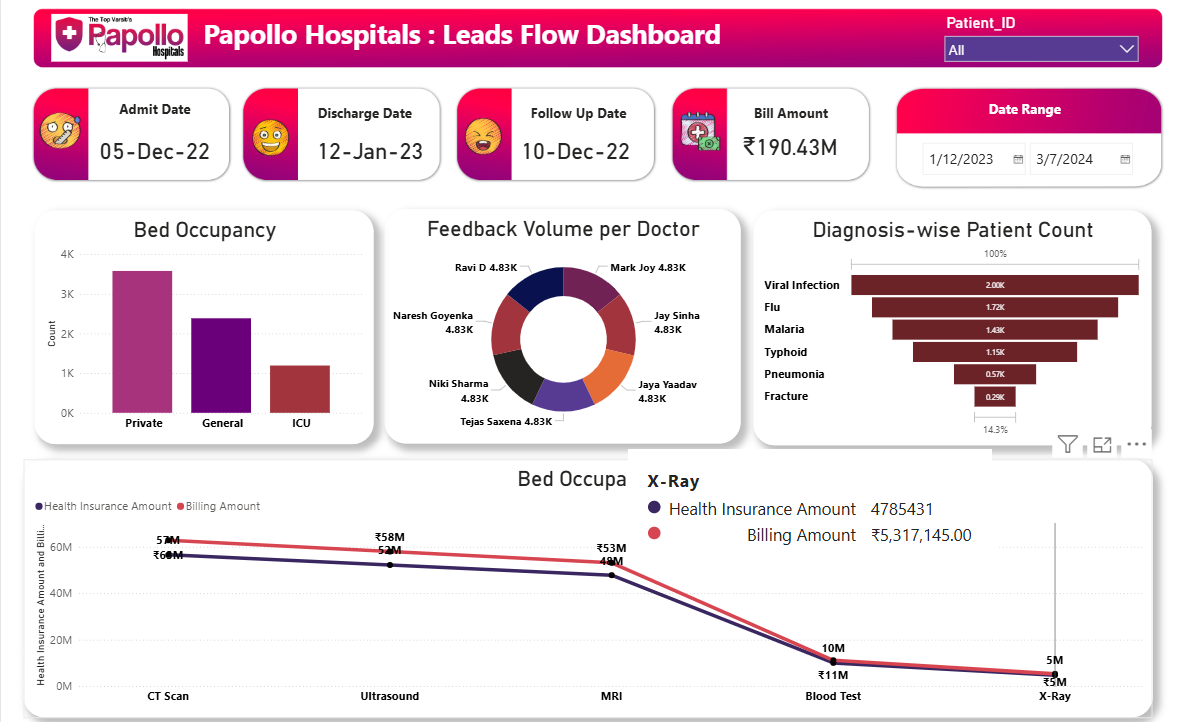

This screenshot's page, from the dashboard's own definition file:
{"tool":"powerbi","page":{"name":"Page 2","canvas":[1680,1050],"ordinal":0},"visuals":[{"type":"textbox","box":[280,27.1,755.7,74.3],"z":0},{"type":"image","box":[2636.7,100,623.3,150],"z":1000},{"type":"slicer","fields":{"Values":["Sheet1.Patient_ID"]},"box":[2400,373.3,793.3,420],"z":2000},{"type":"card","fields":{"Values":["Min(Sheet1.Admit_Date)"]},"box":[437.6,198.8,162.9,42.8],"z":3000},{"type":"card","fields":{"Values":["Min(Sheet1.Discharge_Date)"]},"box":[129.8,198.8,172.6,42.8],"z":4000},{"type":"card","fields":{"Values":["Min(Sheet1.Followup Date)"]},"box":[724.3,198.6,167.1,42.9],"z":5000},{"type":"textbox","box":[152.9,145.7,127.1,57.1],"z":6000},{"type":"textbox","box":[437.1,151.4,151.4,37.1],"z":7000},{"type":"textbox","box":[732.9,151.4,158.6,37.1],"z":8000},{"type":"textbox","box":[1035.7,151.4,151.4,37.1],"z":9000},{"type":"card","fields":{"Values":["Sum(Sheet1.Billing Amount)"]},"box":[1031.4,194.3,158.6,42.9],"z":10000},{"type":"image","box":[50,157.1,68.6,74.3],"z":11000},{"type":"image","box":[348.6,172.9,62.9,62.9],"z":12000},{"type":"image","box":[640,171.4,77.1,62.9],"z":13000},{"type":"image","box":[951.4,158.6,65.7,71.4],"z":14000},{"type":"columnChart","title":"Bed Occupancy","fields":{"Category":["Sheet1.Bed_Occupancy"],"Y":["CountNonNull(Sheet1.Bed_Occupancy)"]},"box":[47.1,305.7,477.1,328.6],"z":15000},{"type":"donutChart","title":"Feedback Volume per Doctor","fields":{"Category":["Sheet1.Doctor"],"Y":["Sum(Sheet1.Feedback)"]},"box":[540.2,305.2,501,329.5],"z":16000},{"type":"funnel","title":"Diagnosis-wise Patient Count","fields":{"Category":["Sheet1.Diagnosis"],"Y":["CountNonNull(Sheet1.Diagnosis)"]},"box":[1060,305.7,560,330],"z":17000},{"type":"image","box":[30,24.3,274.3,77.1],"z":18000},{"type":"lineChart","title":"Bed Occupancy","fields":{"Y":["Sum(Sheet1.Health Insurance Amount)","Sum(Sheet1.Billing Amount)"],"Category":["Sheet1.Test"]},"box":[31.1,656.3,1589.5,363.3],"z":19000},{"type":"slicer","fields":{"Values":["Sheet1.Admit_Date"]},"box":[1284.3,201.2,360.6,68.9],"z":20000},{"type":"slicer","fields":{"Values":["Sheet1.Patient_ID"]},"box":[1317.1,24.3,292.9,82.9],"z":21000},{"type":"textbox","box":[1365.7,145.7,151.4,37.1],"z":22000}]}

Visuals, with their boxes on the page's 1680x1050 design canvas (x1, y1, x2, y2). These are canvas units, not pixel positions in the 1193x722 screenshot, which may show the page scaled, cropped or inside an application window:
textbox: <region>280, 27, 1036, 101</region>
image: <region>2637, 100, 3260, 250</region>
slicer - Sheet1.Patient_ID: <region>2400, 373, 3193, 793</region>
card - Min(Sheet1.Admit_Date): <region>438, 199, 600, 242</region>
card - Min(Sheet1.Discharge_Date): <region>130, 199, 302, 242</region>
card - Min(Sheet1.Followup Date): <region>724, 199, 891, 242</region>
textbox: <region>153, 146, 280, 203</region>
textbox: <region>437, 151, 588, 188</region>
textbox: <region>733, 151, 892, 188</region>
textbox: <region>1036, 151, 1187, 188</region>
card - Sum(Sheet1.Billing Amount): <region>1031, 194, 1190, 237</region>
image: <region>50, 157, 119, 231</region>
image: <region>349, 173, 412, 236</region>
image: <region>640, 171, 717, 234</region>
image: <region>951, 159, 1017, 230</region>
"Bed Occupancy" columnChart: <region>47, 306, 524, 634</region>
"Feedback Volume per Doctor" donutChart: <region>540, 305, 1041, 635</region>
"Diagnosis-wise Patient Count" funnel: <region>1060, 306, 1620, 636</region>
image: <region>30, 24, 304, 101</region>
"Bed Occupancy" lineChart: <region>31, 656, 1621, 1020</region>
slicer - Sheet1.Admit_Date: <region>1284, 201, 1645, 270</region>
slicer - Sheet1.Patient_ID: <region>1317, 24, 1610, 107</region>
textbox: <region>1366, 146, 1517, 183</region>
